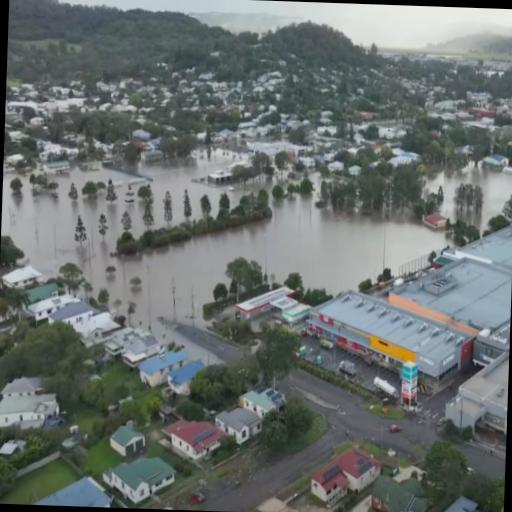flood: (1, 168, 448, 331), (141, 152, 273, 227), (1, 195, 82, 269), (429, 168, 512, 228)
house: (306, 290, 442, 406), (452, 332, 509, 434), (230, 282, 310, 333), (310, 442, 382, 498), (0, 373, 60, 436), (106, 455, 178, 507), (44, 297, 120, 343), (31, 470, 118, 508), (166, 418, 225, 462), (374, 472, 434, 512), (216, 404, 264, 446), (140, 350, 192, 387), (236, 382, 288, 418), (422, 490, 501, 512), (0, 261, 48, 297), (107, 424, 147, 462), (115, 337, 164, 367), (169, 358, 202, 392), (390, 148, 421, 166), (483, 153, 506, 175), (206, 168, 232, 186), (42, 160, 71, 176), (422, 212, 448, 229), (468, 108, 496, 119), (140, 148, 162, 162), (327, 158, 345, 172), (348, 165, 362, 176), (30, 116, 44, 124)
